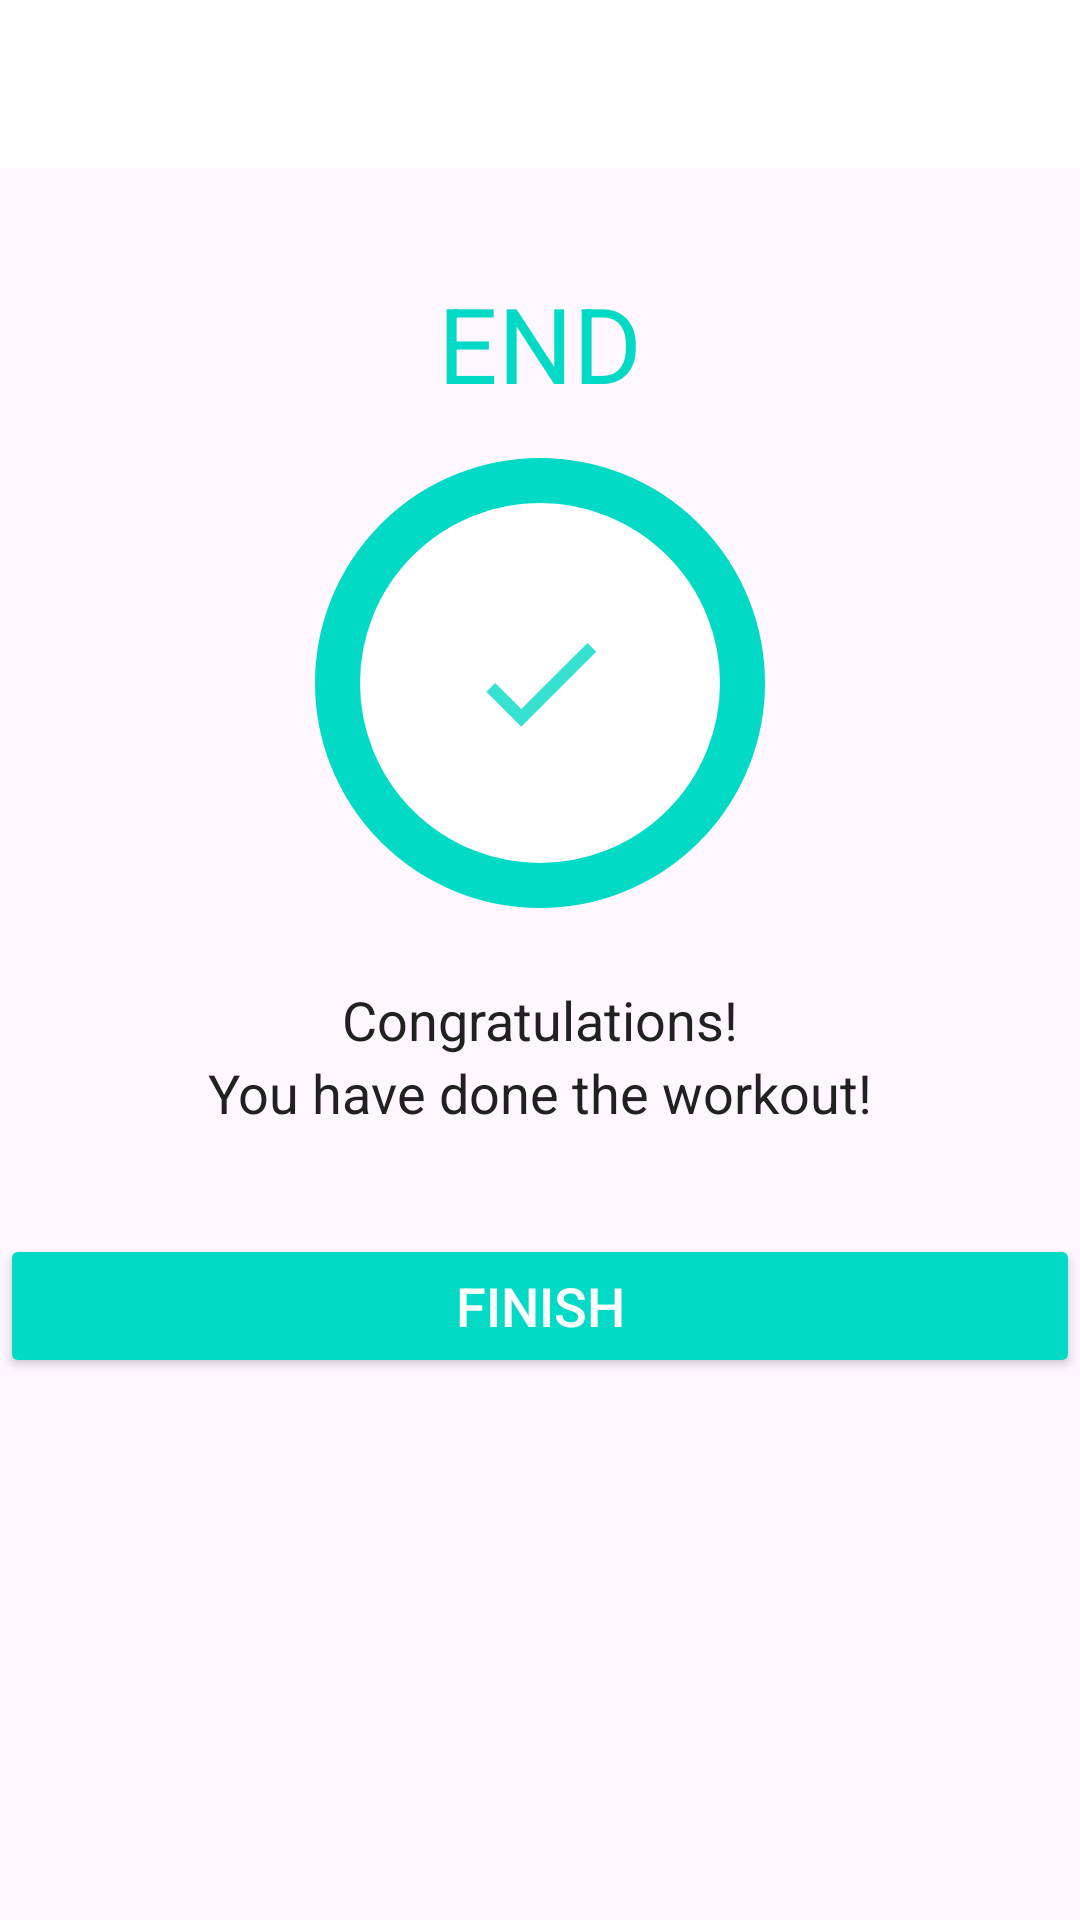

Point at icon controls on the screen. Image size 1080x1920, points as [x,y].
tick image: [541,685]
